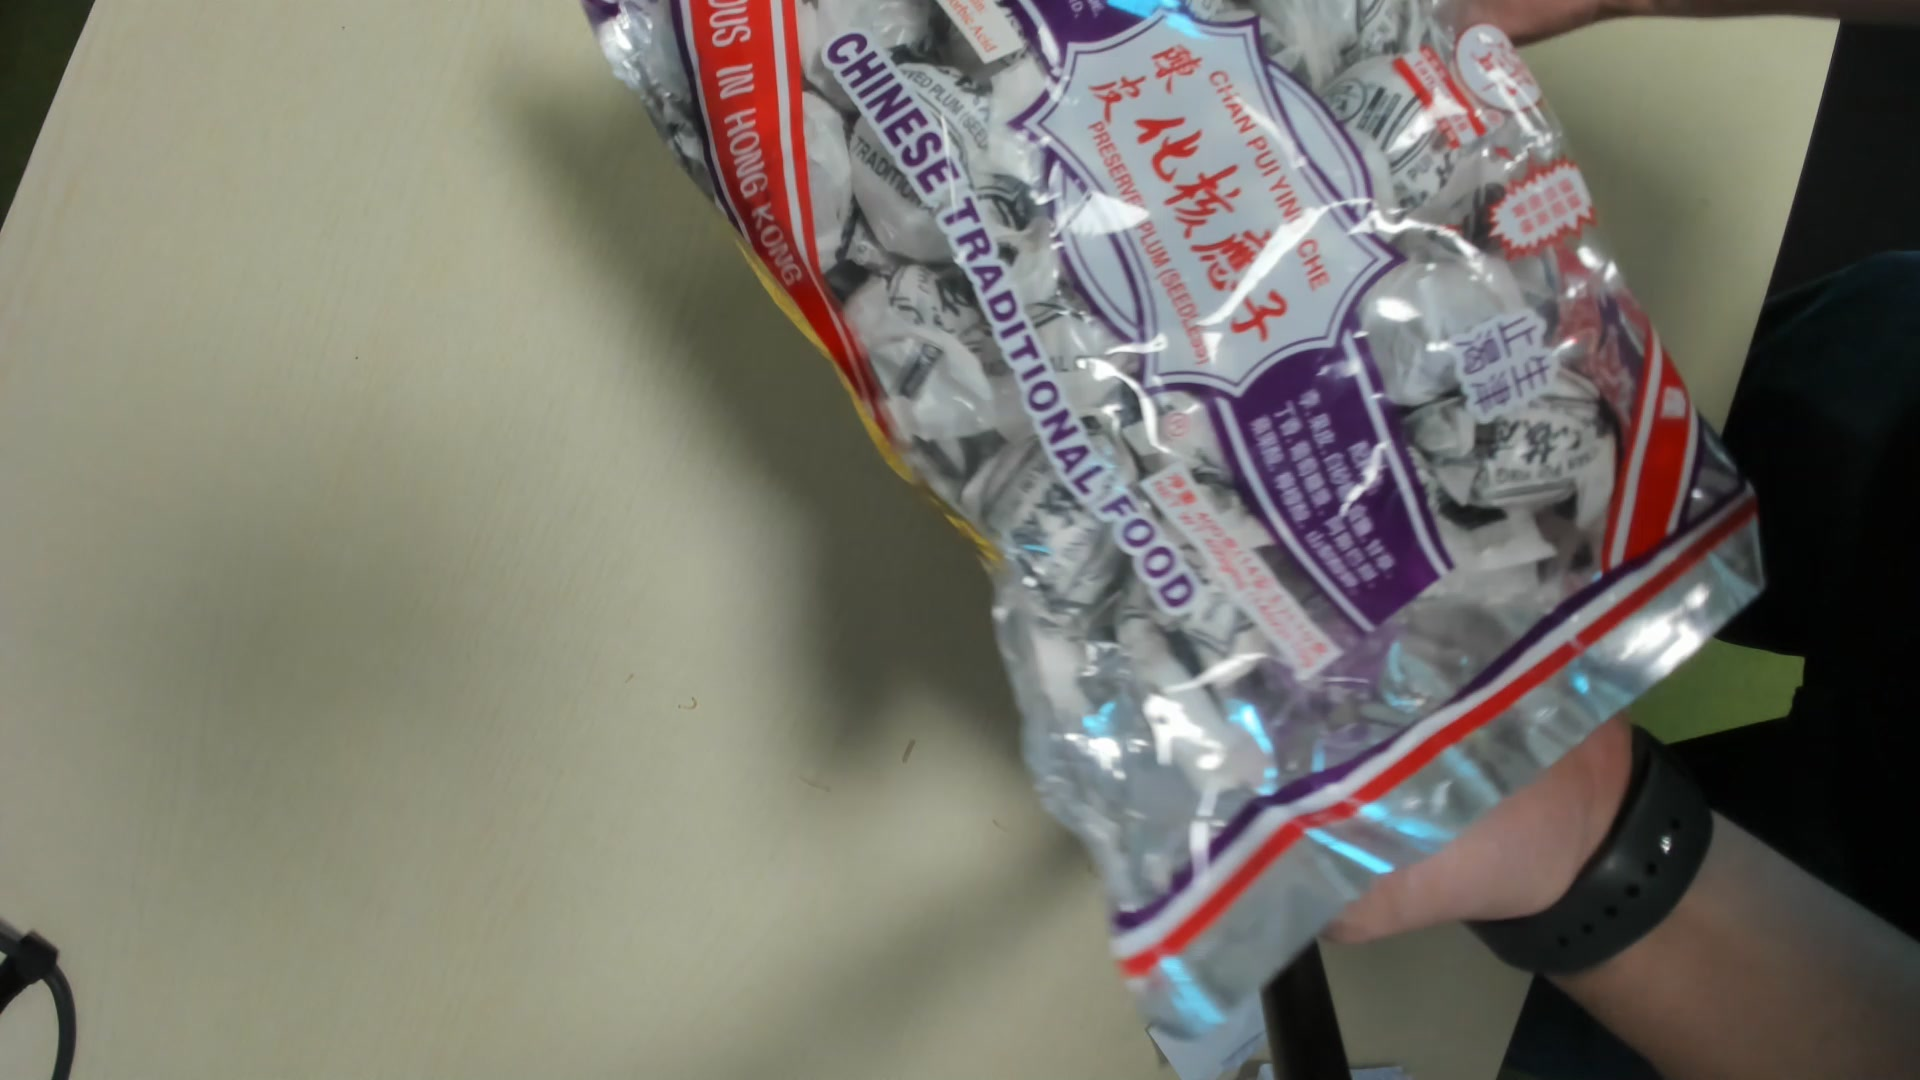SweetsChocolatesOthers_400-499g_NonHalal_Nonhealthy: (596, 1, 1768, 1054)
